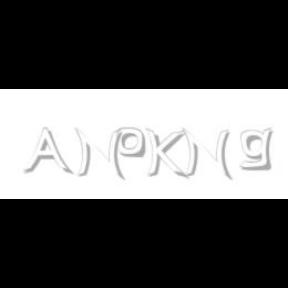A: (23, 128, 71, 176)
K: (145, 128, 185, 180)
N: (74, 128, 124, 180), (182, 128, 230, 180)
g: (240, 128, 276, 171)
o: (116, 128, 146, 158)
